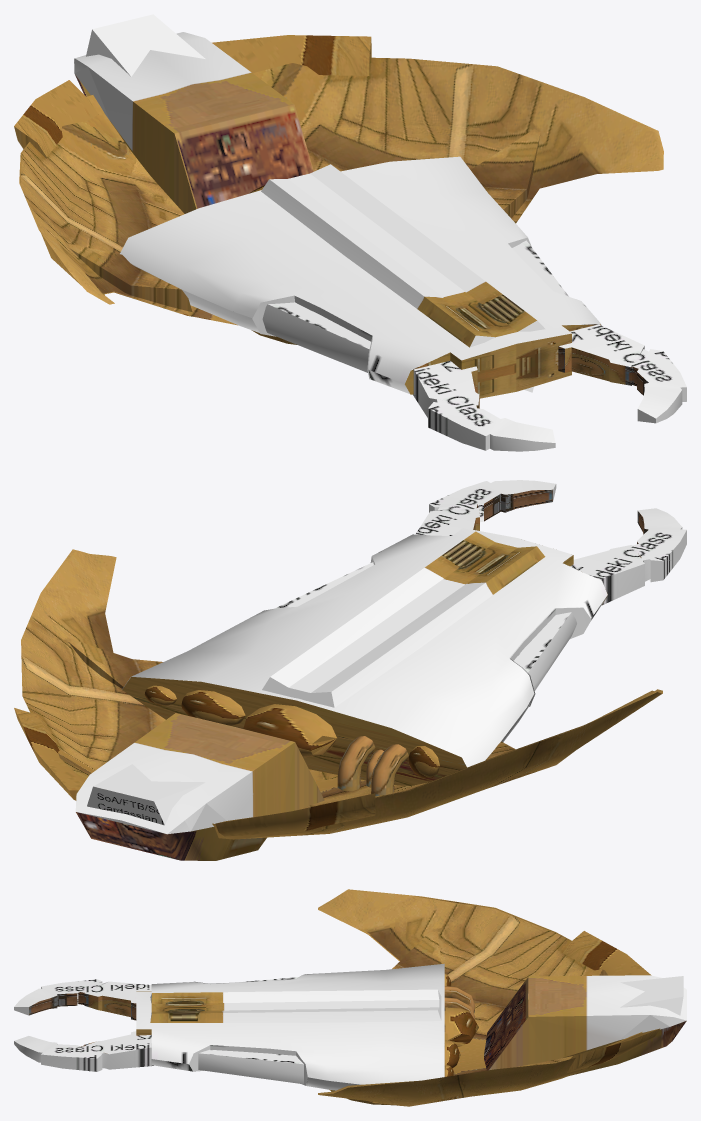
File: Car_Hideki.fbx
3 renders of one model, top to bottom at view 1: azimuth 30°, elevation 25°; view 2: azimuth 150°, elevation 25°; view 3: azimuth 270°, elevation 25°, orthographic. The views are drawn at different scales.
Visible parts, largest first — view 1: Car_Hideki; view 2: Car_Hideki; view 3: Car_Hideki.
Boxes of the visible parts, x1,y1,x2,y2 form: Car_Hideki: (14,14,686,451); Car_Hideki: (14,480,686,860); Car_Hideki: (14,889,686,1106).
Size of the model in its own units: 100 by 20.84 by 144.
1 material, 1 textured.
